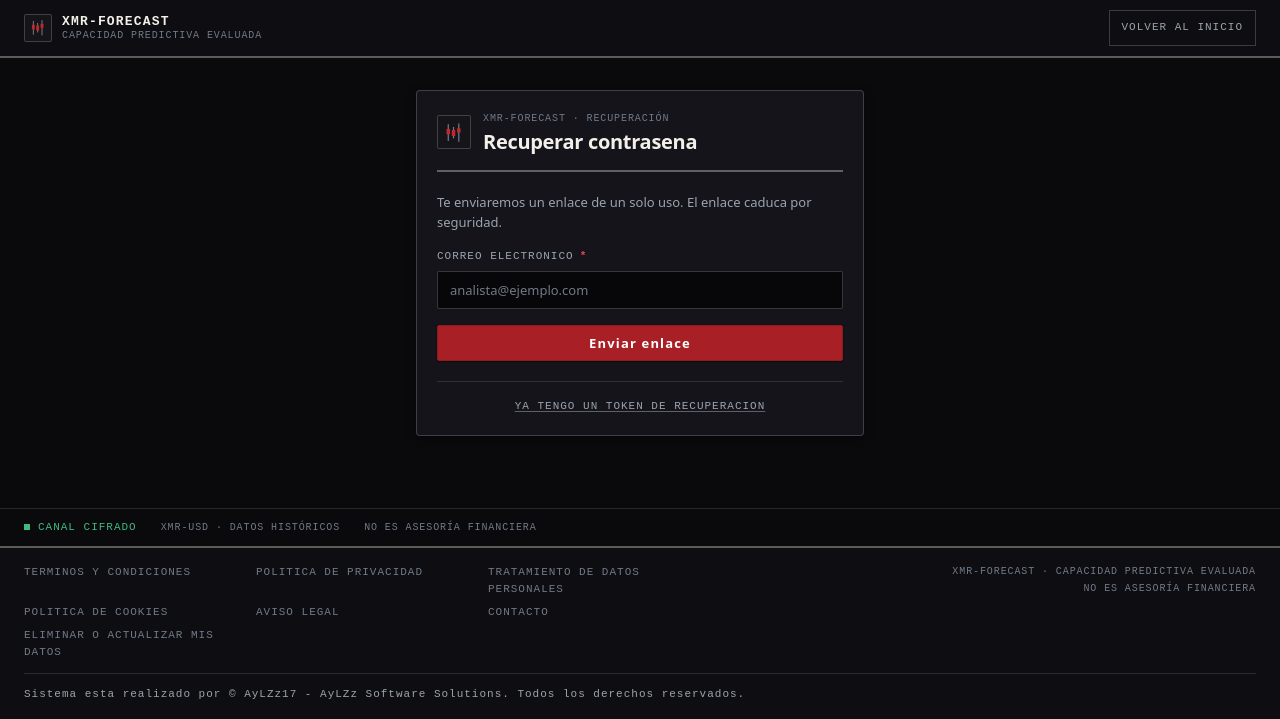
it: forgot-password 429 handling › shows a rate-limit message with the requestId
In the field labelled "Correo electronico *": (640, 290) x1=437 y1=271 x2=843 y2=309, type "ana@ejemplo.com"
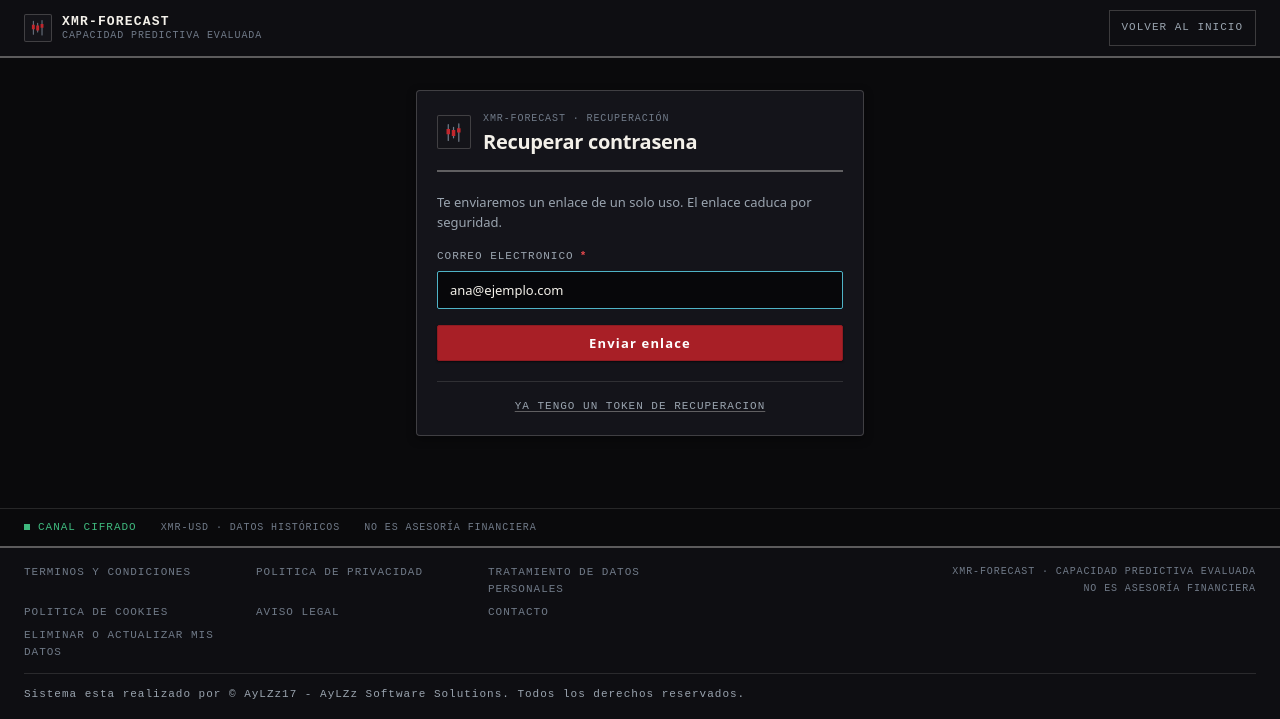
Click the button "Enviar enlace": (640, 343) x1=437 y1=325 x2=843 y2=361
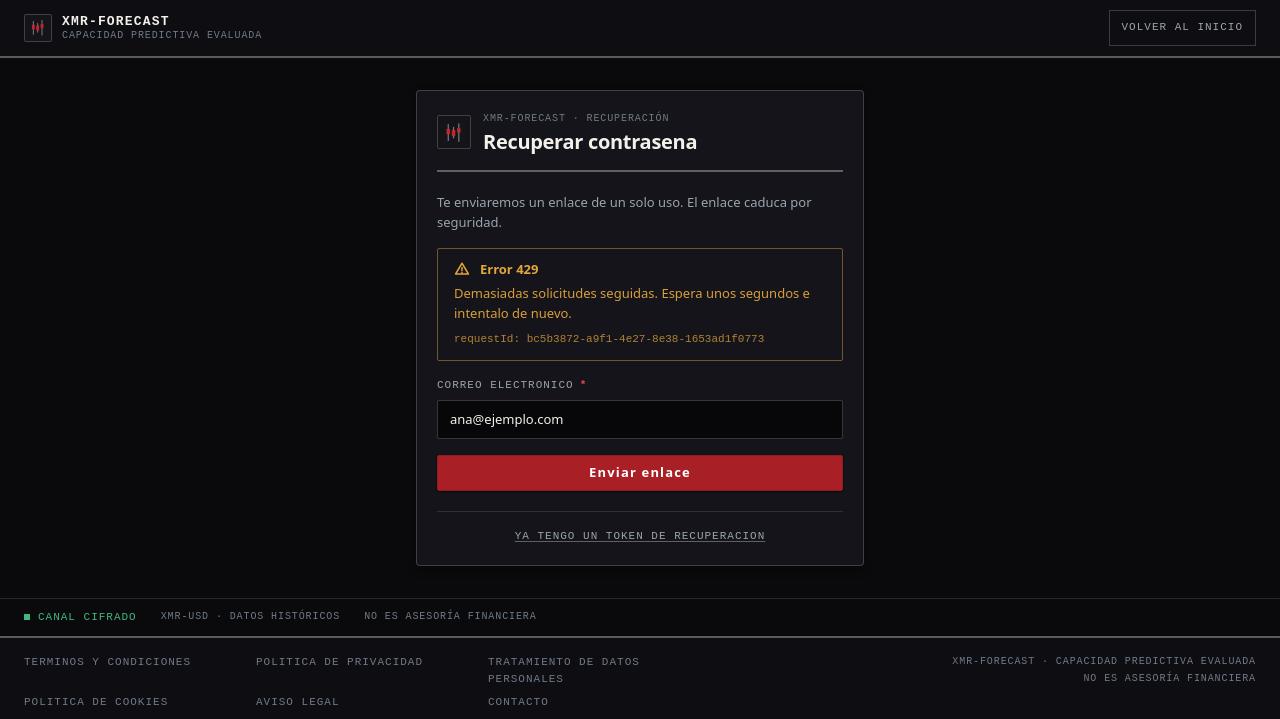
Check: the text "Demasiadas solicitudes seguidas" is shown, box x1=454 y1=284 x2=810 y2=322
Check: the text "requestId: bc5b3872-a9f1-4e27-8e38-1653ad1f0773" is shown, box x1=454 y1=333 x2=764 y2=345
